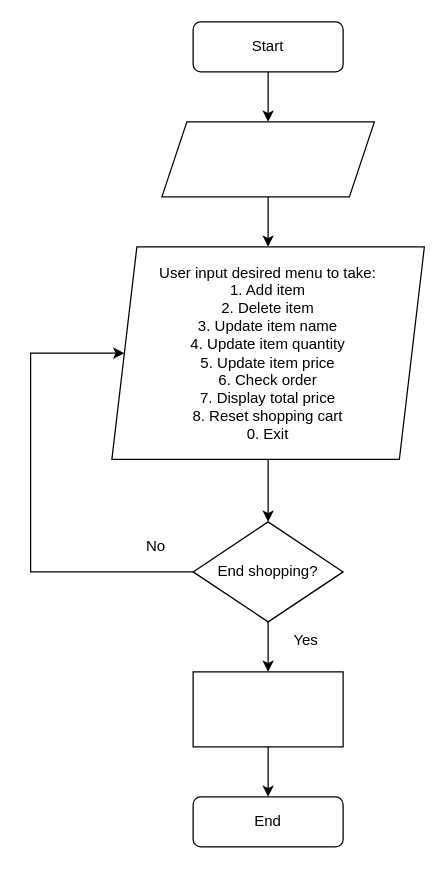
Some shapes in this 446 by 869 pixel diagram are drawn without their labels. Each missing label, with the centre of its shape:
"Check order and display total price" goes at [267,709].
"User input customer ID" goes at [267,159].
